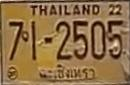0: (90, 20, 106, 59)
1: (31, 20, 36, 59)
2: (56, 20, 70, 59)
5: (107, 19, 123, 58), (72, 20, 87, 59)
7: (8, 21, 23, 60)
CCO: (37, 61, 98, 84)
